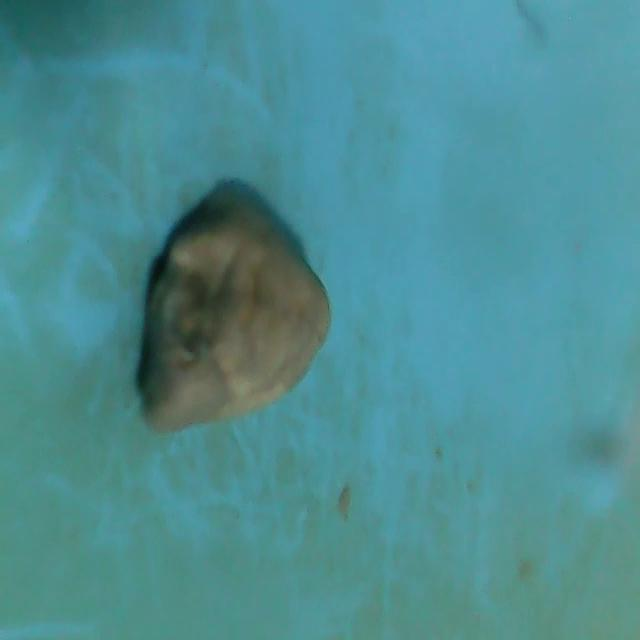rock: (134, 186, 338, 444)
